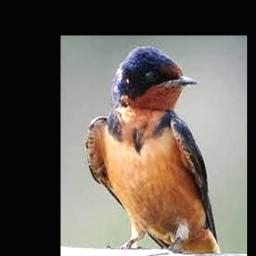Swallow: (85, 44, 220, 254)
